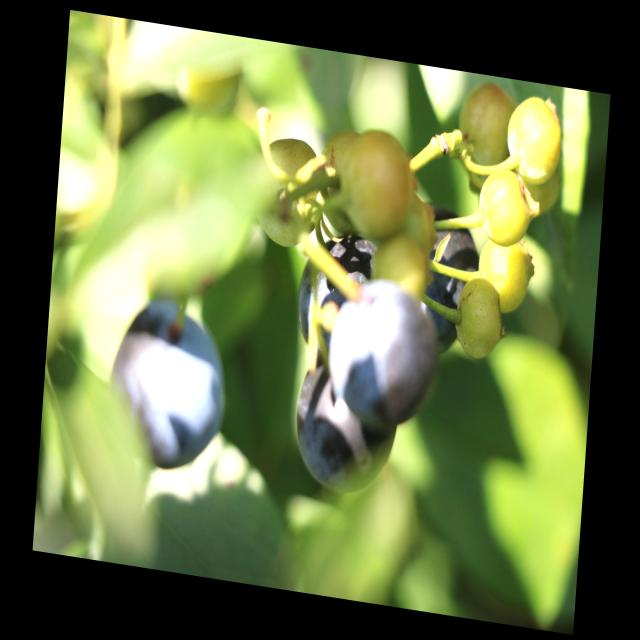blueberry: (104, 294, 233, 482), (290, 357, 404, 503), (332, 274, 436, 424), (290, 223, 379, 357)
blueberry-unripe: (252, 130, 324, 253), (340, 134, 421, 243), (455, 77, 519, 187), (500, 89, 564, 190), (472, 231, 536, 320), (474, 159, 536, 248), (451, 274, 508, 366)
